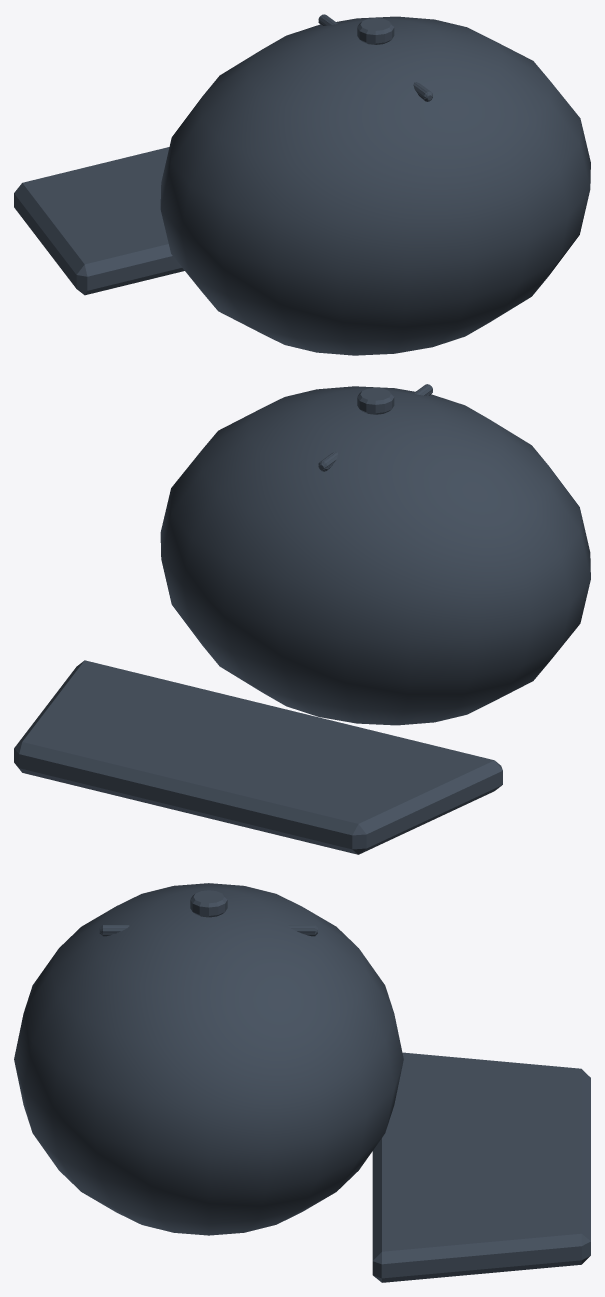
File: item_cap.glb
The picture shows the model from 3 angles, top to bottom: view 1: azimuth 30°, elevation 25°; view 2: azimuth 150°, elevation 25°; view 3: azimuth 270°, elevation 25°; orthographic projection.
Visible parts, largest first — view 1: item_cap; view 2: item_cap; view 3: item_cap.
Boxes of the visible parts, x1,y1,x2,y2 form: item_cap: (14,14,590,355); item_cap: (14,384,590,854); item_cap: (14,883,590,1282).
Bounding box in the file's own units: 0.3175 × 0.22 × 0.37.
